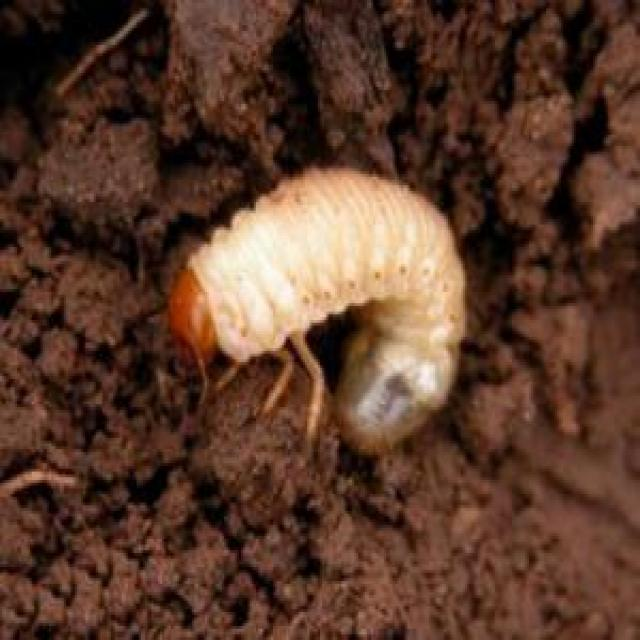Grub-Adult-: (164, 151, 465, 473)
